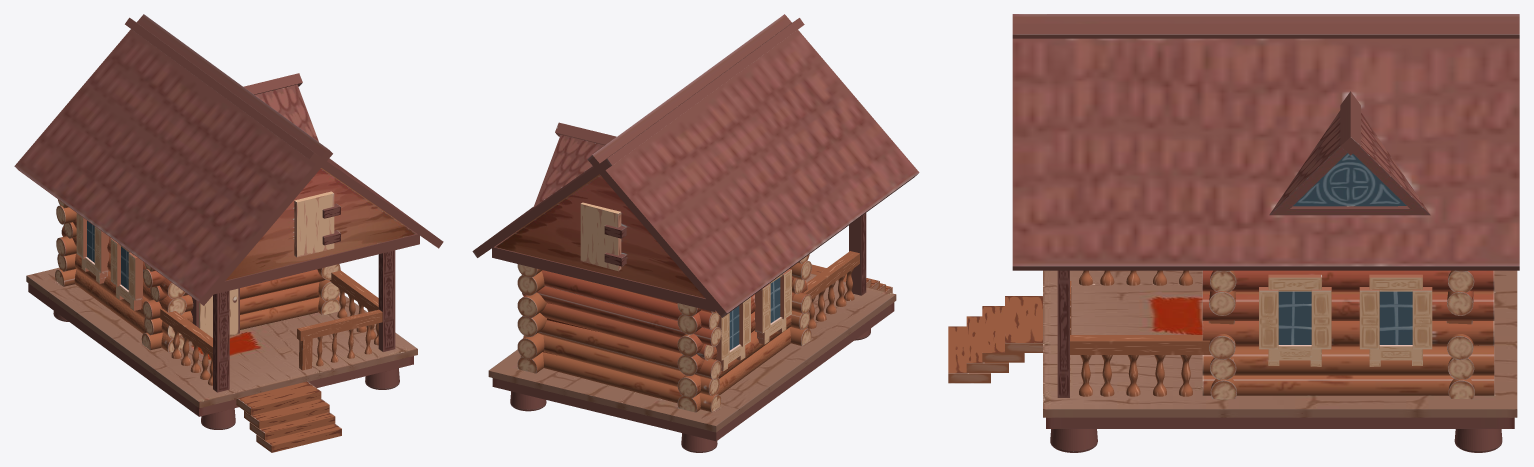
The model's file is Haus.glb.
3 views of the same model, side by side, from view 1: azimuth 30°, elevation 25°; view 2: azimuth 150°, elevation 25°; view 3: azimuth 270°, elevation 25° (orthographic). The views are drawn at different scales.
Visible parts, largest first — view 1: Haus; view 2: Haus; view 3: Haus.
Part boxes in pixels (bbox=[...]): Haus: bbox=[14, 14, 443, 452]; Haus: bbox=[472, 14, 919, 452]; Haus: bbox=[948, 14, 1519, 452].
Bounding box in the file's own units: 2.68 × 2.82 × 3.95.
74 materials, 74 textured.
